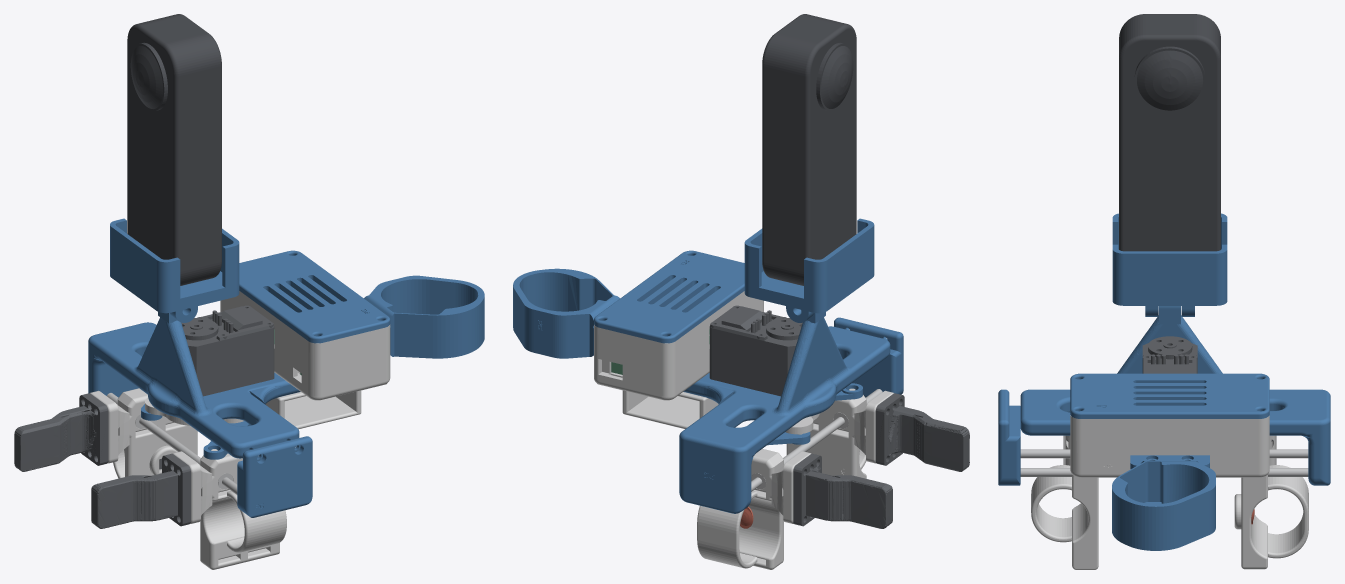
File: x5_parallel_right_robotiq-hand-e.glb
3 renders of one model, left to right at view 1: azimuth 30°, elevation 25°; view 2: azimuth 150°, elevation 25°; view 3: azimuth 270°, elevation 25°, orthographic. The views are drawn at different scales.
Visible parts, largest first — view 1: insta360_x5, main_support, electronics_lid, controller_support, electronics_box, thumb_link, x5_wrist_mount, servo_sts3215, tip_thumb, main_support_cover_plate, tip_index, index_link (+2 smaller); view 2: insta360_x5, main_support, electronics_lid, controller_support, electronics_box, index_link, x5_wrist_mount, servo_sts3215, tip_index, tip_thumb, thumb_link, hand_support_base (+2 smaller); view 3: insta360_x5, electronics_box, electronics_lid, controller_support, main_support, x5_wrist_mount, index_link, thumb_link, main_support_cover_plate, servo_sts3215, rod_-28, rod_-8.
Boxes of the visible parts, x1,y1,x2,y2 form: insta360_x5: [127, 14, 221, 285]; main_support: [88, 312, 300, 458]; electronics_lid: [239, 250, 390, 343]; controller_support: [364, 275, 484, 358]; electronics_box: [220, 291, 390, 400]; thumb_link: [172, 449, 286, 569]; x5_wrist_mount: [110, 218, 239, 322]; servo_sts3215: [181, 305, 274, 396]; tip_thumb: [91, 453, 190, 528]; main_support_cover_plate: [237, 436, 312, 517]; tip_index: [14, 393, 108, 471]; index_link: [90, 388, 197, 478]; insta360_x5: [762, 14, 856, 285]; main_support: [679, 312, 890, 513]; electronics_lid: [594, 250, 744, 343]; controller_support: [513, 268, 619, 358]; electronics_box: [594, 291, 763, 400]; index_link: [697, 449, 811, 569]; x5_wrist_mount: [744, 218, 874, 322]; servo_sts3215: [709, 305, 802, 396]; tip_index: [793, 453, 892, 528]; tip_thumb: [875, 393, 969, 471]; thumb_link: [786, 388, 893, 478]; hand_support_base: [597, 383, 718, 428]; insta360_x5: [1119, 14, 1220, 251]; electronics_box: [1070, 415, 1269, 477]; electronics_lid: [1070, 373, 1269, 418]; controller_support: [1112, 455, 1215, 550]; main_support: [1020, 306, 1330, 485]; x5_wrist_mount: [1112, 213, 1227, 316]; index_link: [1234, 435, 1308, 569]; thumb_link: [1031, 435, 1098, 569]; main_support_cover_plate: [998, 389, 1020, 485]; servo_sts3215: [1142, 336, 1197, 373]; rod_-28: [1020, 449, 1308, 458]; rod_-8: [1020, 468, 1308, 476].
Bounding box in the file's own units: 0.2226 × 0.2575 × 0.15.
